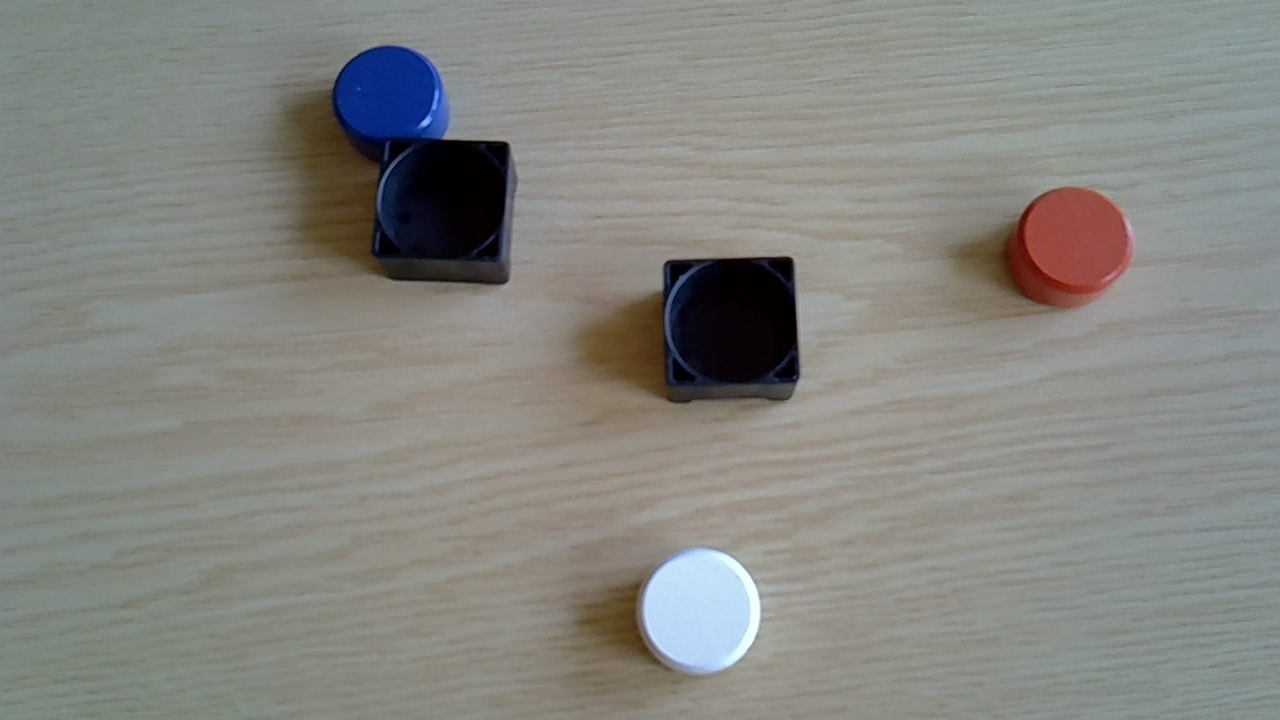Behaelter: (370, 137, 522, 285), (660, 256, 800, 404)
WerkStueck: (631, 545, 764, 677), (1002, 184, 1138, 310), (333, 43, 450, 146)
